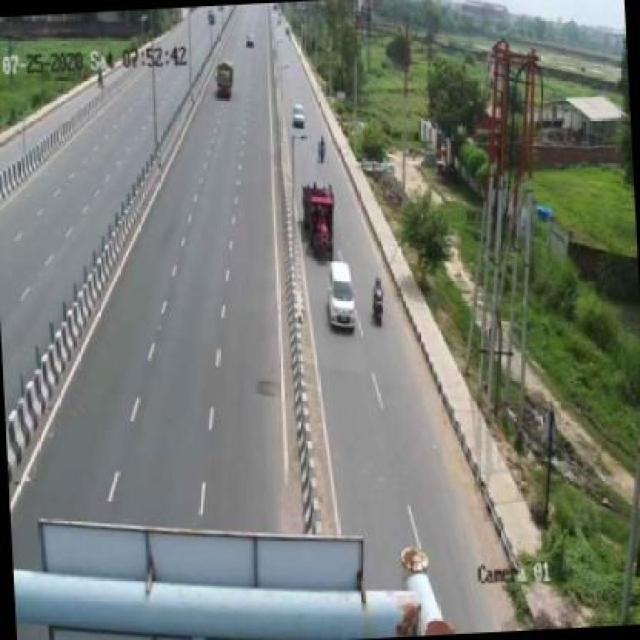car: (317, 255, 361, 337), (288, 99, 308, 132)
